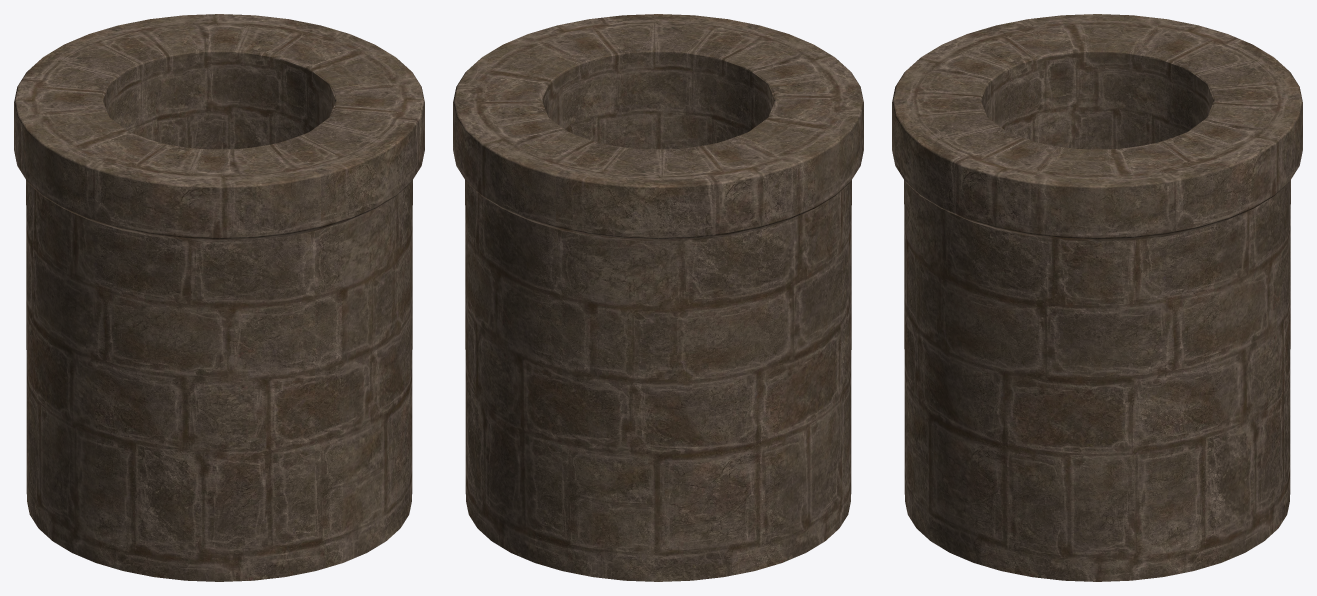
File: WellSmoke.glb
The picture shows the model from 3 angles, left to right: view 1: azimuth 30°, elevation 25°; view 2: azimuth 150°, elevation 25°; view 3: azimuth 270°, elevation 25°; orthographic projection.
Visible parts, largest first — view 1: Well; view 2: Well; view 3: Well.
Part boxes in pixels (left/top/right/bottom): Well: left=14, top=14, right=424, bottom=581; Well: left=453, top=14, right=863, bottom=581; Well: left=892, top=14, right=1302, bottom=581.
Bounding box in the file's own units: 1.53 × 1.65 × 1.53.
Materials: 1 (1 with a texture image).
